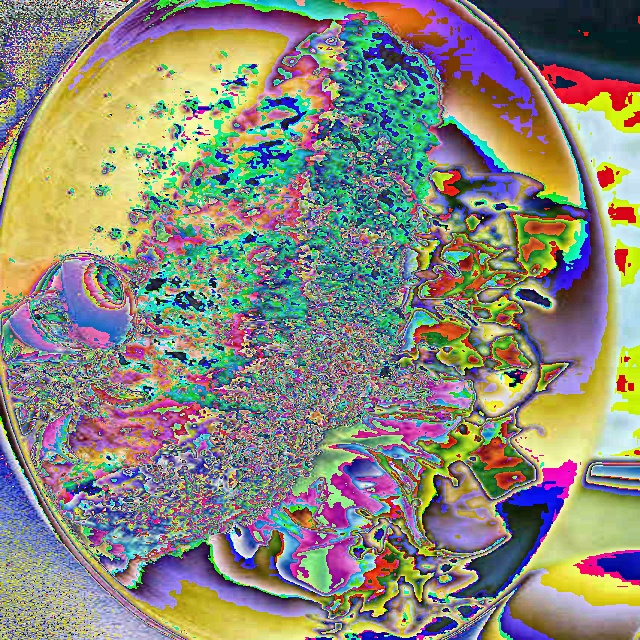background: (5, 19, 592, 639)
